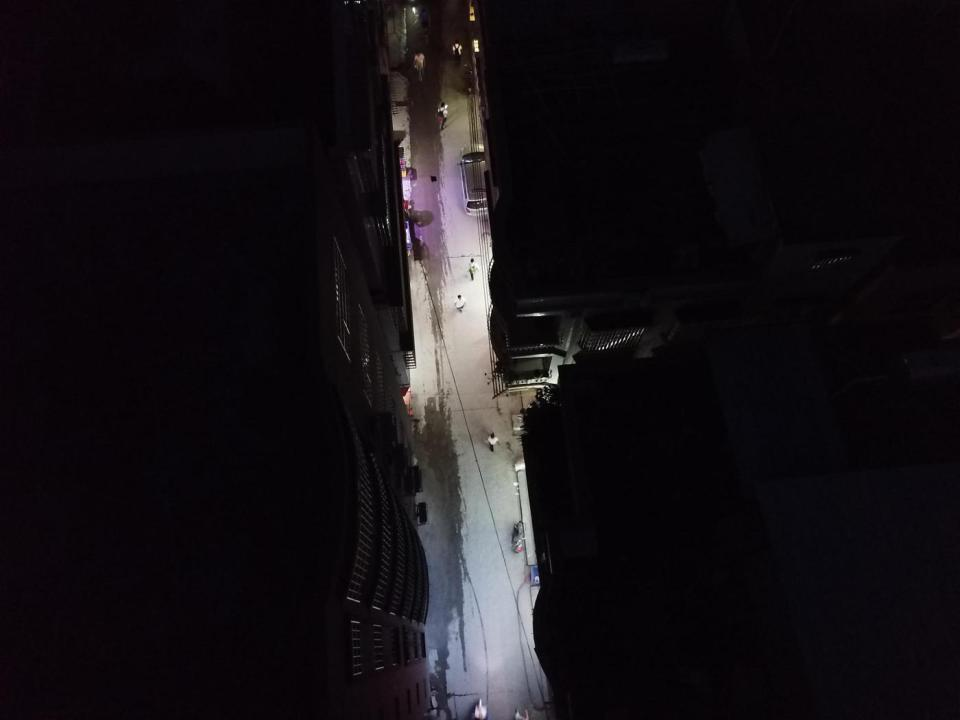van: (456, 152, 494, 216)
